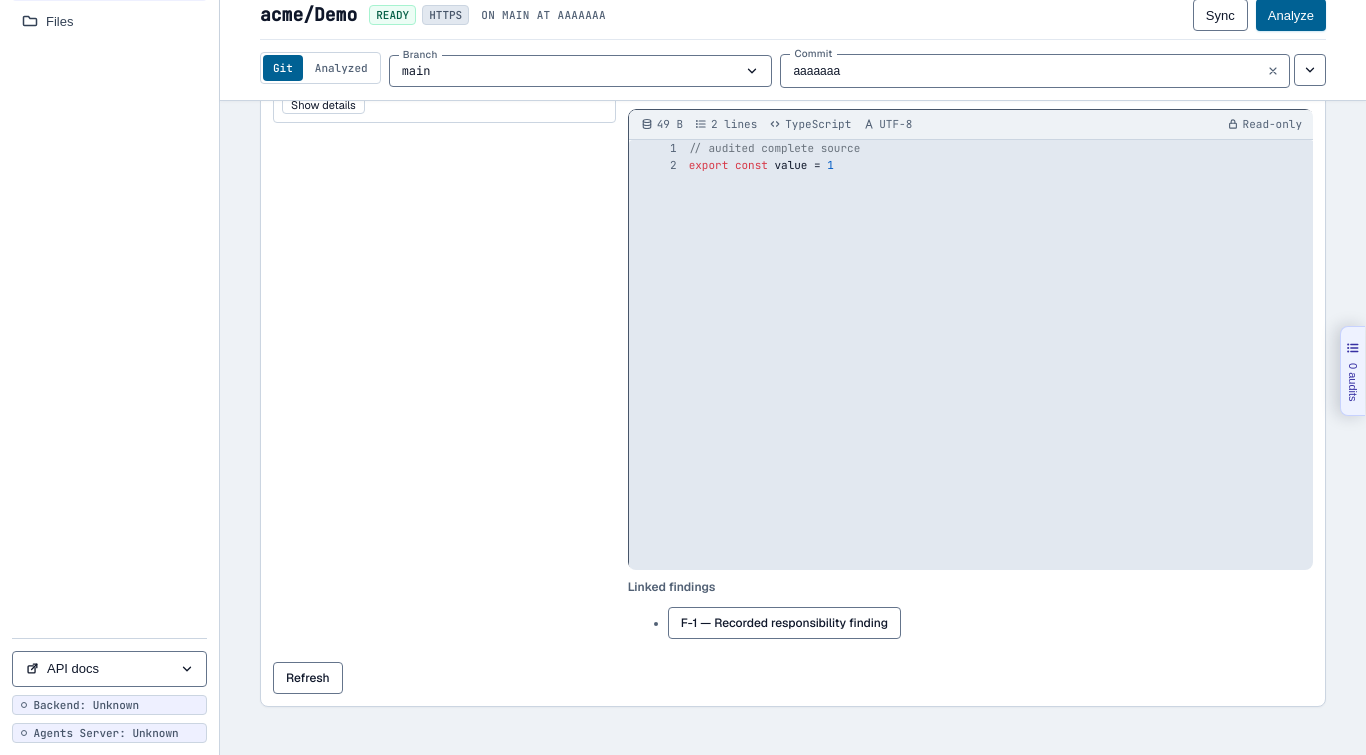
Test: ProjectDetailPage › renders historical evidence and findings inside project details without reading the working copy
This screenshot has width=1366, height=755.
(page scrolled)
Expected: the heading "acme/Demo" is shown, [260,3,357,27]
Expected: the element "Read-only code viewer" shows "audited complete source", [689,140,860,154]
Click the button "F-1 — Recorded responsibility finding". click: (784, 623)
box: [668,607,901,639]
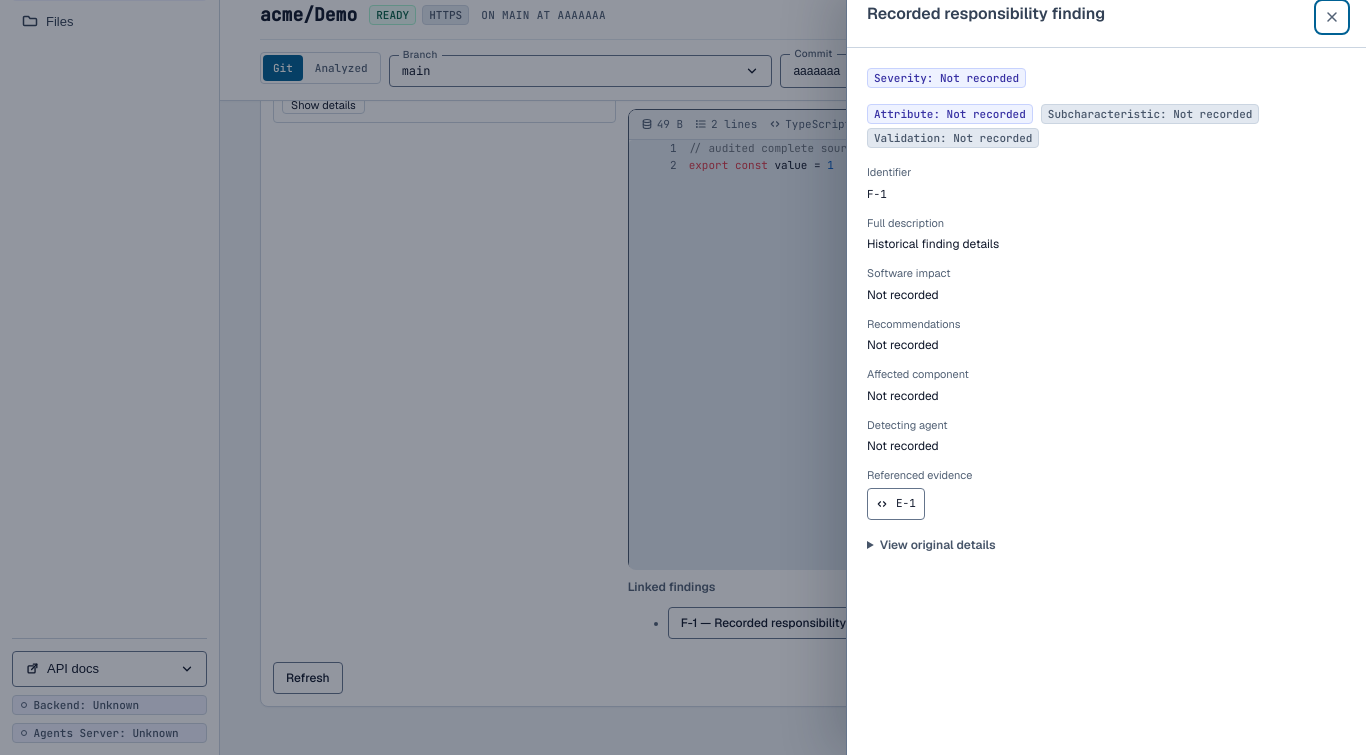
Result: the dialog "Recorded responsibility finding" shows "Historical finding details" at [867,236,999,252]
